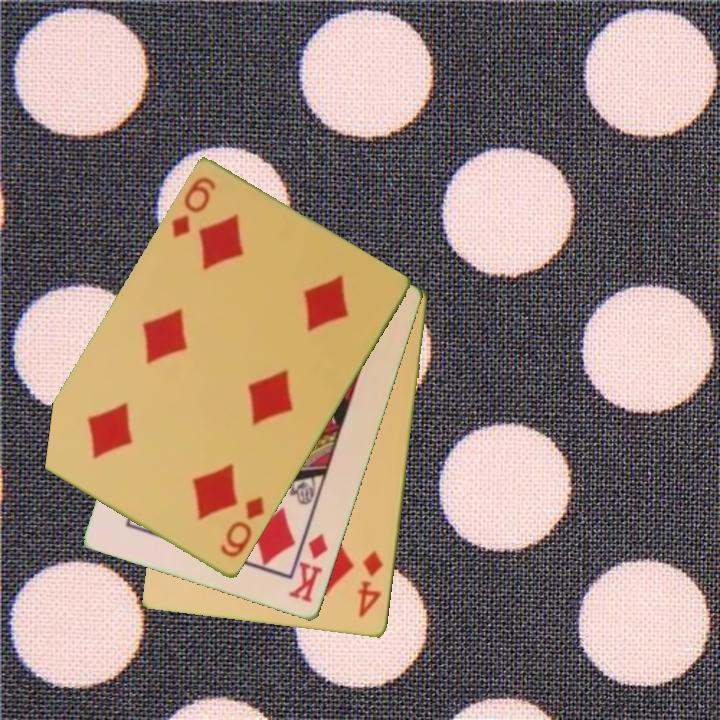4d: (354, 548, 386, 621)
6d: (216, 493, 268, 561), (168, 174, 219, 242)
Kd: (285, 531, 331, 606)
